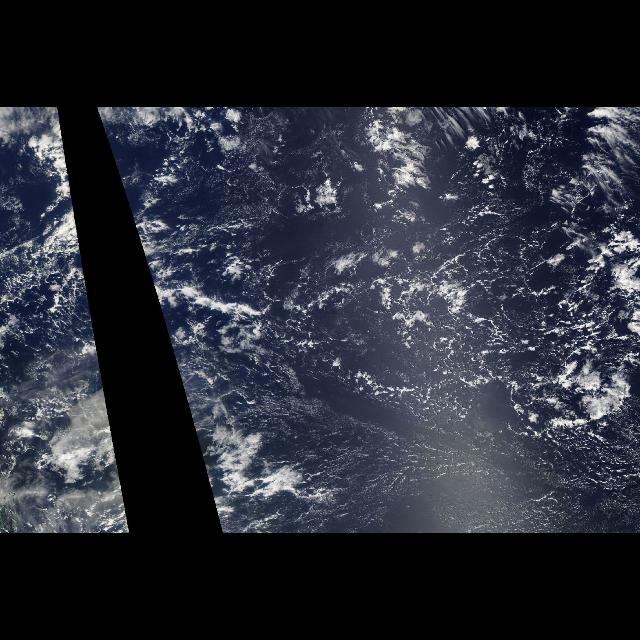Gravel: (262, 108, 640, 432), (116, 170, 258, 396), (18, 170, 106, 396)
Sugar: (267, 428, 639, 530)
